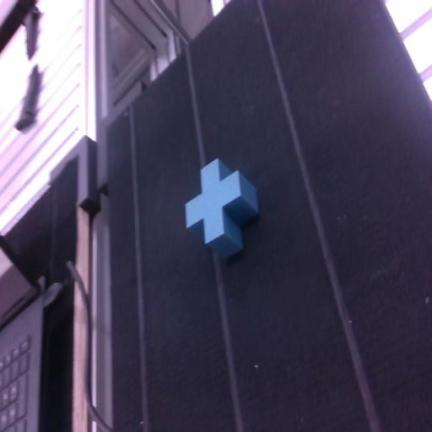cross: (186, 159, 258, 256)
